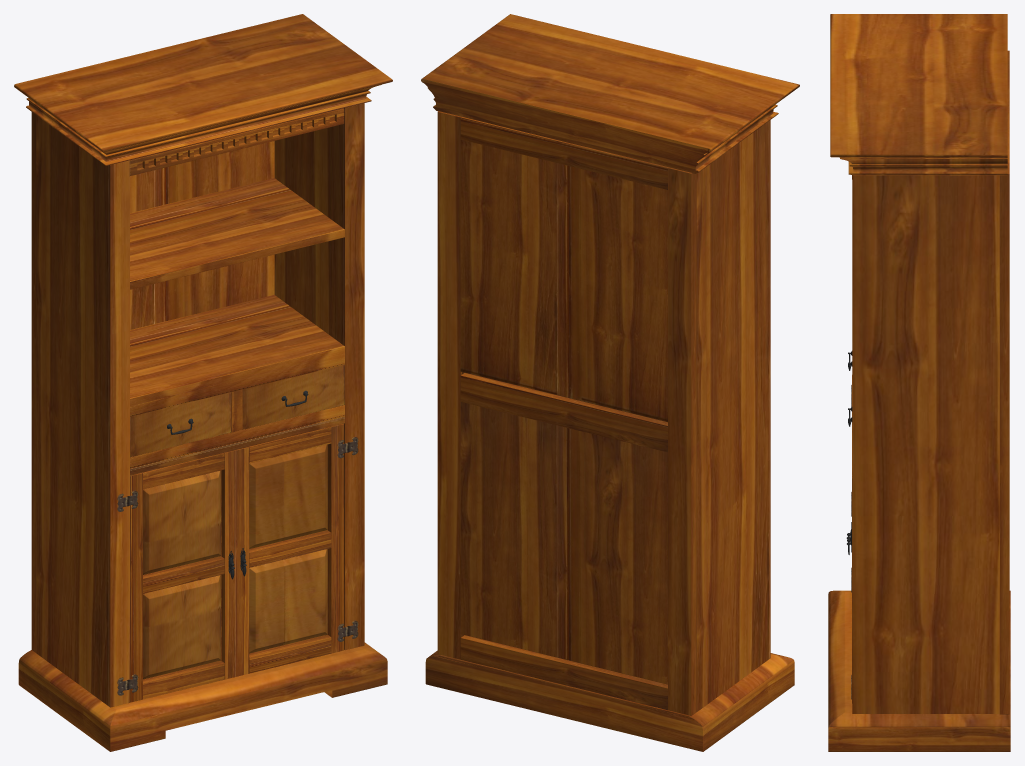
3 views of the same model, side by side, from view 1: azimuth 30°, elevation 25°; view 2: azimuth 150°, elevation 25°; view 3: azimuth 270°, elevation 25° (orthographic).
Visible parts, largest first — view 1: Box001, Box014, Line16, Box020, Box024, Box019, Box023, Object003, Object, Object004, Object002, Object047 (+3 smaller); view 2: Box023, Box001, Object006, Line16, Object009, Box020, Object053; view 3: Box001, Line16, Box020, Object006.
Boxes of the visible parts, box(x1,y1,x2,y2) form: Box001: box(36, 103, 364, 707); Box014: box(130, 178, 344, 575); Line16: box(14, 14, 392, 165); Box020: box(18, 608, 387, 751); Box024: box(249, 444, 327, 653); Box019: box(143, 470, 220, 679); Box023: box(130, 141, 274, 589); Object003: box(237, 424, 343, 676); Object: box(130, 450, 237, 702); Object004: box(249, 427, 331, 673); Object002: box(142, 453, 224, 699); Object047: box(242, 365, 344, 429); Box023: box(460, 139, 667, 684); Box001: box(460, 120, 770, 712); Object006: box(437, 111, 696, 715); Line16: box(422, 14, 799, 171); Object009: box(460, 117, 668, 710); Box020: box(425, 650, 794, 751); Object053: box(421, 79, 710, 173); Box001: box(852, 175, 999, 713); Line16: box(830, 14, 1007, 175); Box020: box(828, 590, 1010, 751); Object006: box(1000, 50, 1009, 714).
Size of the model in its own units: 91.79 by 183 by 50.33.
4 materials, 3 textured.
